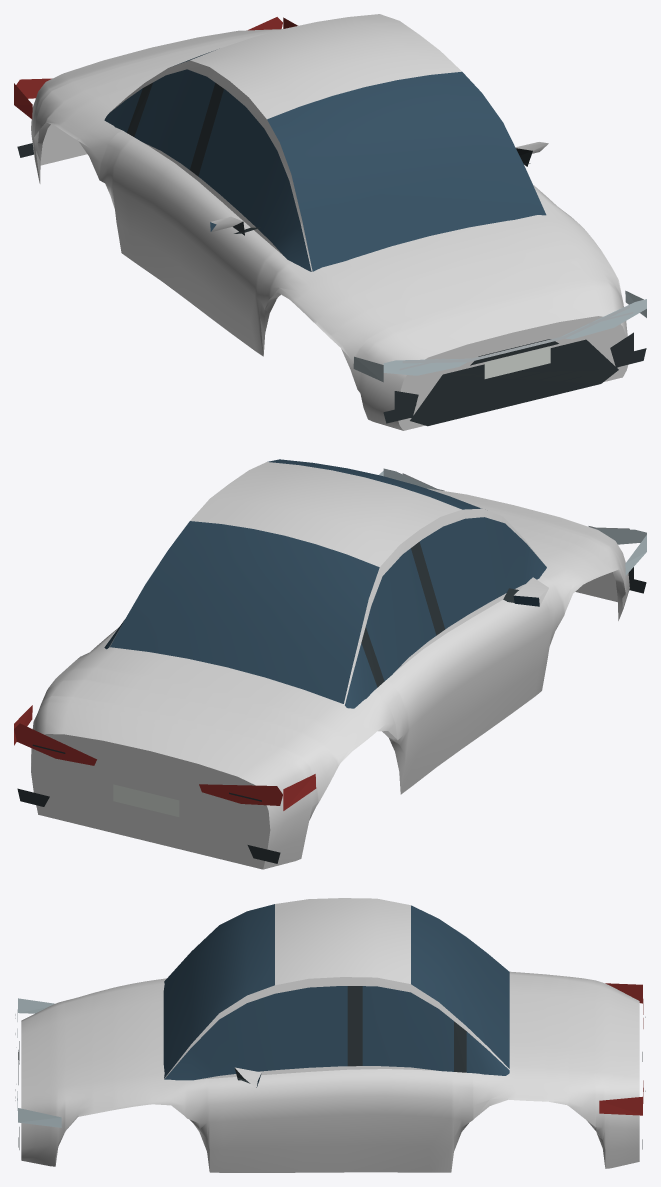
Rendered from veh_vios-lod1.glb.
3 renders of one model, top to bottom at view 1: azimuth 30°, elevation 25°; view 2: azimuth 150°, elevation 25°; view 3: azimuth 270°, elevation 25°, orthographic. The views are drawn at different scales.
Visible parts, largest first — view 1: paint, glass, trim, head, plate, tail, chrome; view 2: paint, glass, tail, trim, head, plate; view 3: paint, glass, trim, tail, head.
Part boxes in pixels (<box>): paint: <box>31,14,627,430</box>; glass: <box>104,50,546,271</box>; trim: <box>17,82,646,426</box>; head: <box>353,290,646,382</box>; plate: <box>484,346,550,378</box>; tail: <box>14,17,297,119</box>; chrome: <box>399,305,633,370</box>; paint: <box>31,462,629,869</box>; glass: <box>104,459,546,708</box>; tail: <box>14,705,316,810</box>; trim: <box>17,542,646,863</box>; head: <box>379,468,646,575</box>; plate: <box>113,784,179,816</box>; paint: <box>21,898,639,1172</box>; glass: <box>163,904,509,1087</box>; trim: <box>18,986,645,1149</box>; tail: <box>599,983,643,1115</box>; head: <box>16,998,61,1127</box>.
Bounding box in the file's own units: 1.45 × 0.9 × 2.79.
